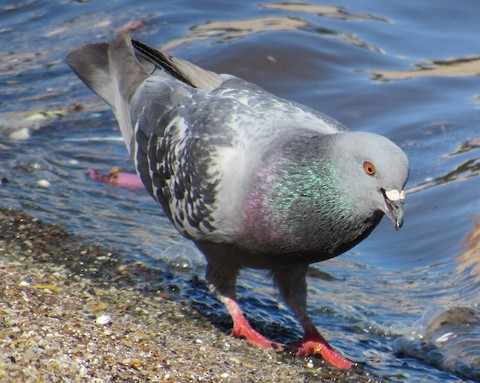pigeon: (56, 16, 409, 370)
